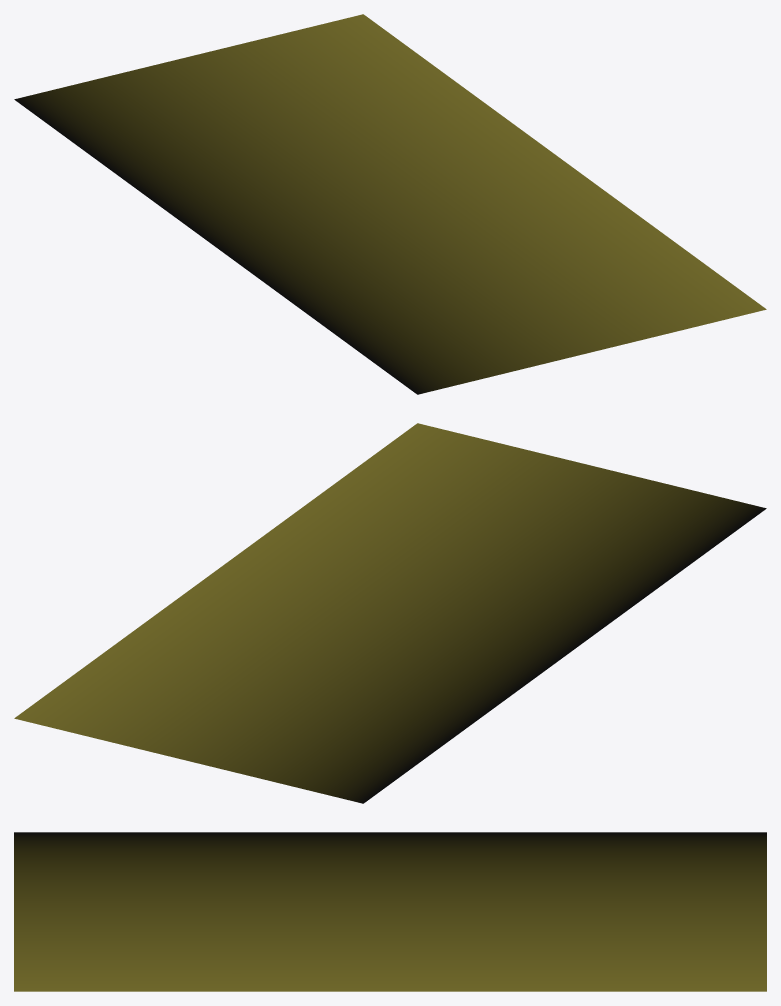
The picture shows the model from 3 angles, top to bottom: view 1: azimuth 30°, elevation 25°; view 2: azimuth 150°, elevation 25°; view 3: azimuth 270°, elevation 25°; orthographic projection. The views are drawn at different scales.
Bounding box in the file's own units: 0.5 × 0 × 1.
Materials: 1 (1 with a texture image).
